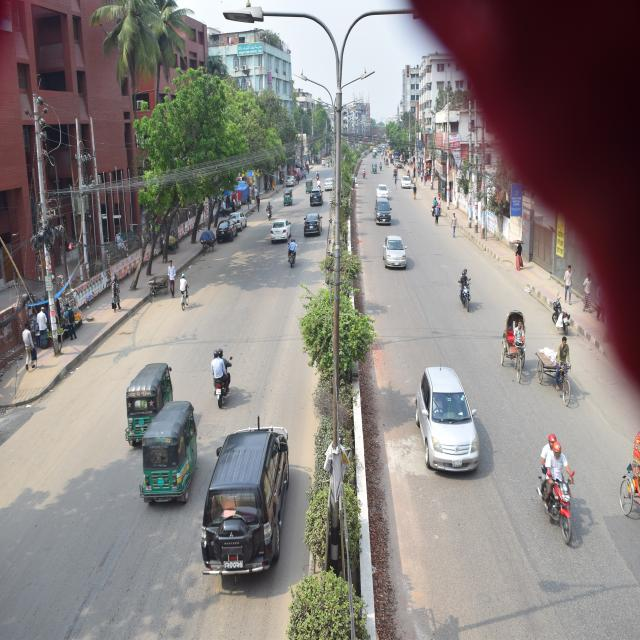car: (406, 356, 487, 488), (380, 233, 408, 270), (213, 217, 239, 243), (302, 211, 324, 241), (272, 215, 294, 243), (229, 208, 251, 235), (372, 194, 390, 224), (372, 178, 392, 202), (400, 169, 418, 194), (309, 182, 325, 204)
microbus: (193, 414, 293, 580)
motorbike: (524, 456, 586, 546), (210, 352, 235, 410), (450, 269, 475, 316), (548, 295, 574, 336), (285, 236, 299, 269), (261, 200, 273, 223)
